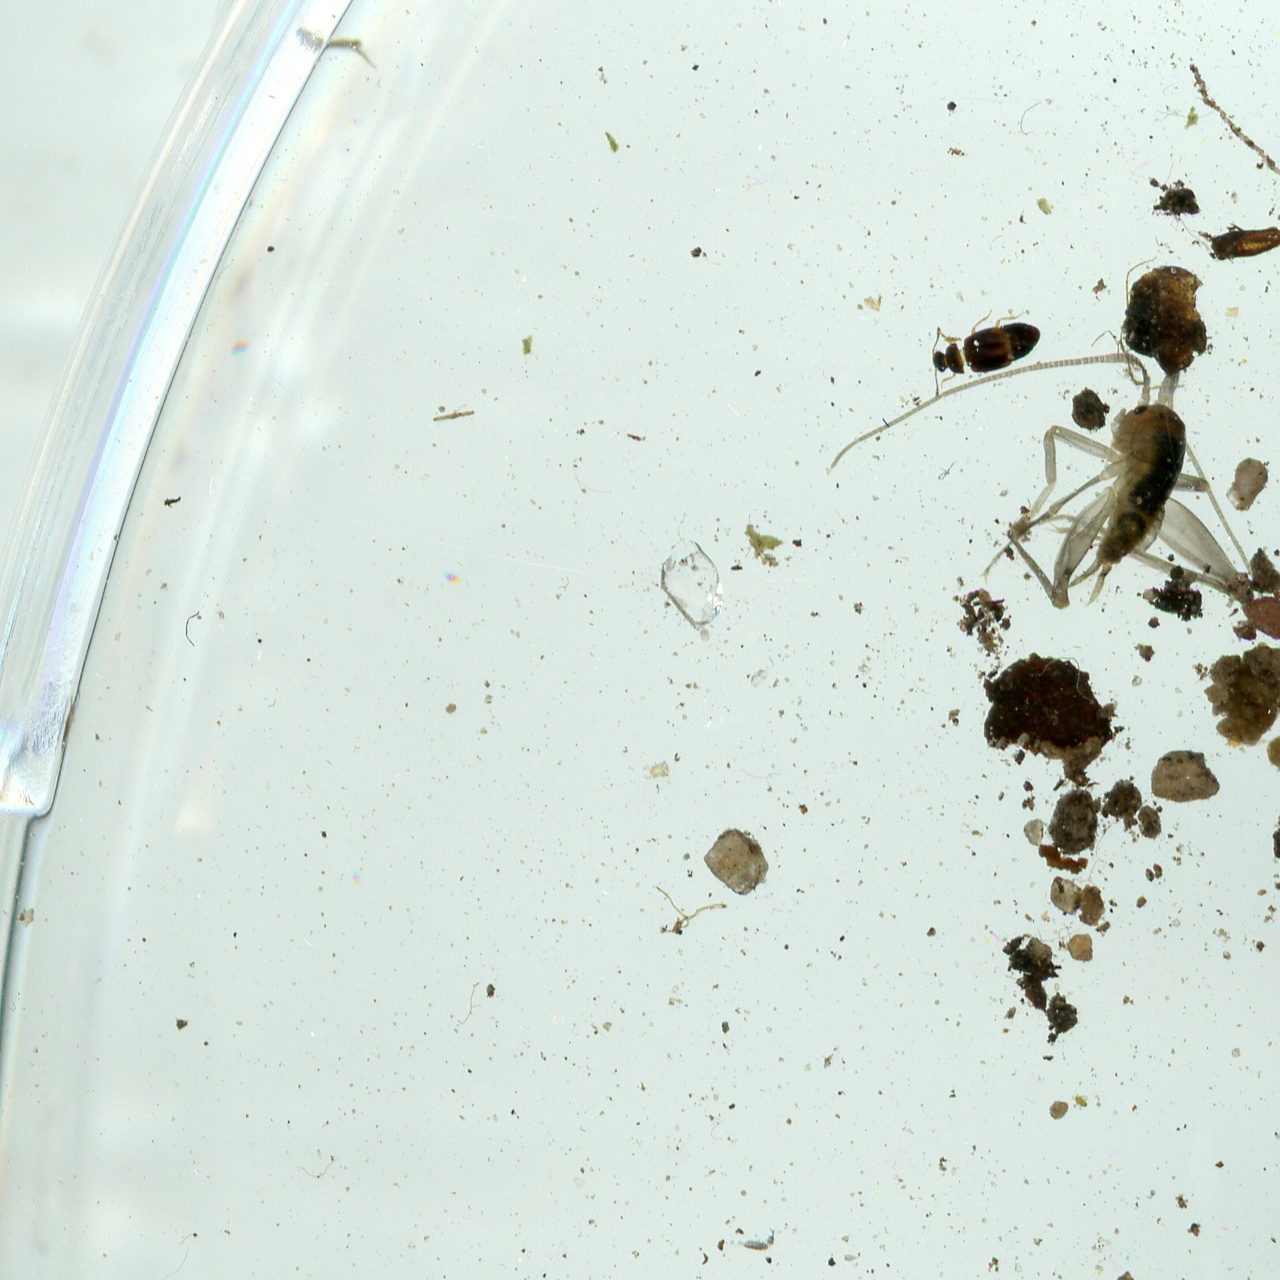arthropod: (823, 340, 1269, 614), (828, 375, 1253, 617), (911, 292, 1054, 401), (925, 315, 1048, 373), (727, 1223, 778, 1254), (1069, 1088, 1092, 1112)
